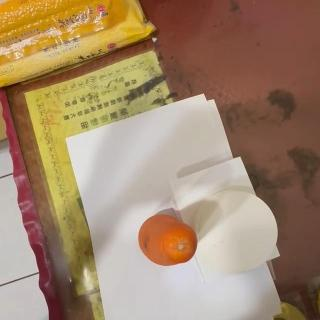carrot: (138, 212, 196, 269)
